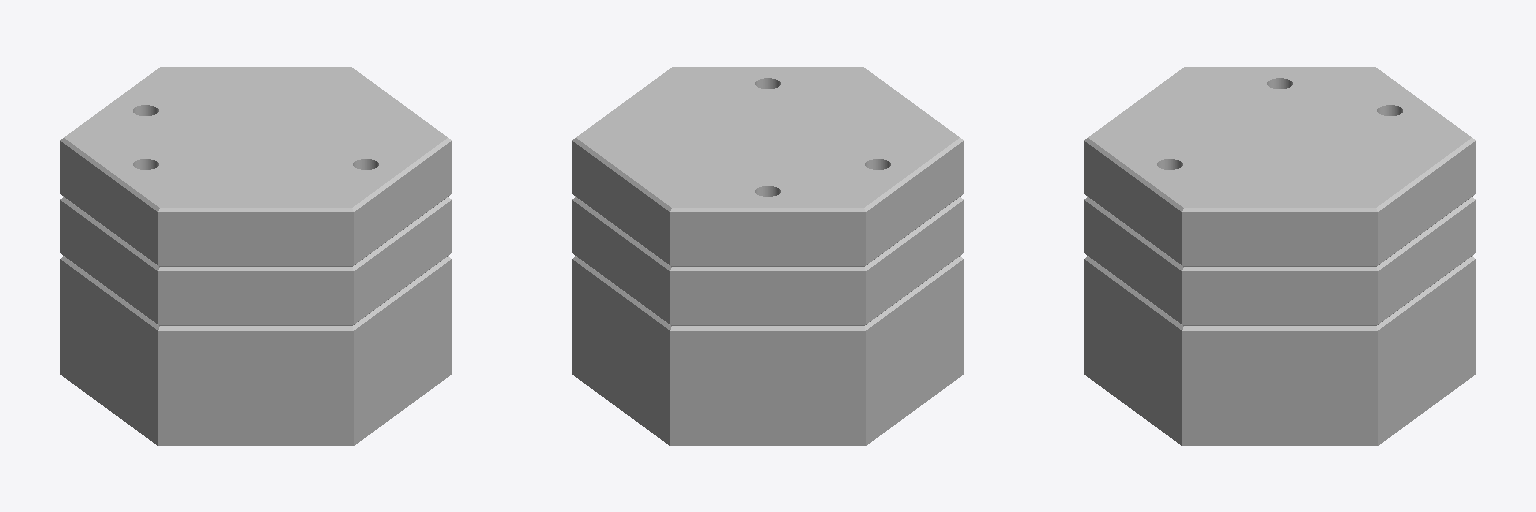
The model's file is lvl3C.obj.
3 views of the same model, side by side, from view 1: azimuth 30°, elevation 25°; view 2: azimuth 150°, elevation 25°; view 3: azimuth 270°, elevation 25° (orthographic).
Visible parts, largest first — view 1: Lvl3C-3_(Mono-NoMags); view 2: Lvl3C-3_(Mono-NoMags); view 3: Lvl3C-3_(Mono-NoMags).
Part boxes in pixels (x1,y1,x2,y2): Lvl3C-3_(Mono-NoMags): (60,67,451,445); Lvl3C-3_(Mono-NoMags): (572,67,963,445); Lvl3C-3_(Mono-NoMags): (1084,67,1475,445).
Bounding box in the file's own units: 3.13 × 2.41 × 3.62.